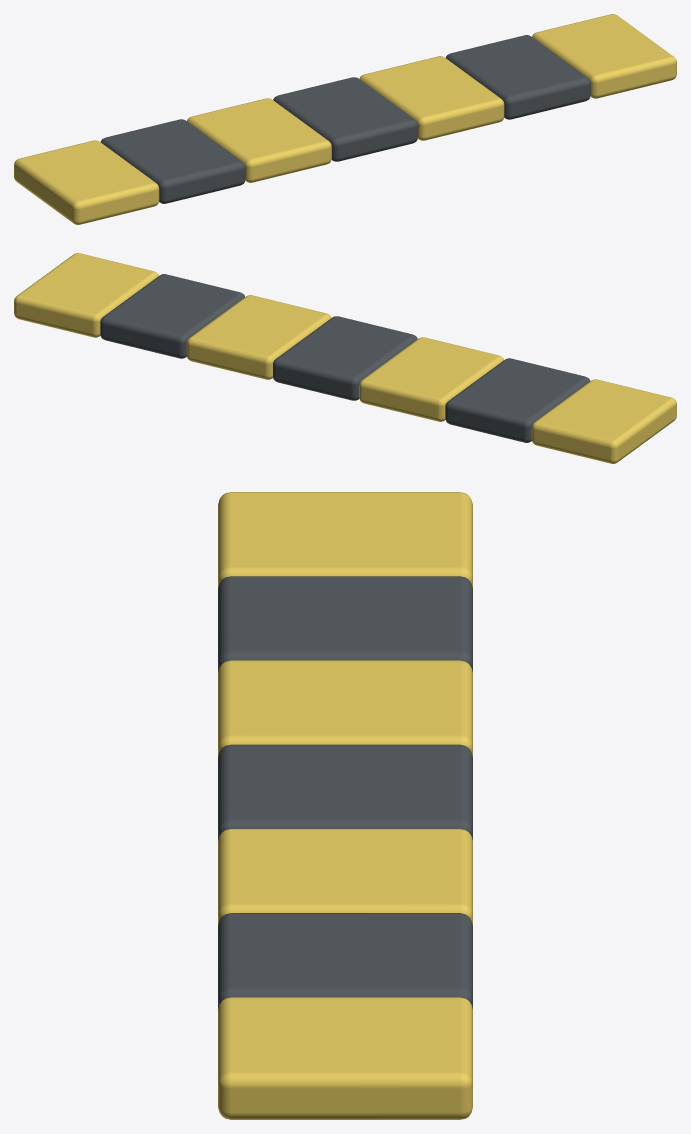
Rendered from liminal-spaces-kit-speed-bump-fb964104__25306.glb.
3 views of the same model, one above another, from view 1: azimuth 30°, elevation 25°; view 2: azimuth 150°, elevation 25°; view 3: azimuth 270°, elevation 25° (orthographic). The views are drawn at different scales.
Parts seen in each view (by area): view 1: speed-bump; view 2: speed-bump; view 3: speed-bump.
Part boxes in pixels (x1,y1,x2,y2): speed-bump: (14, 14, 676, 224); speed-bump: (14, 253, 676, 463); speed-bump: (218, 492, 472, 1119).
Bounding box in the file's own units: 1.75 × 0.065 × 0.32.
